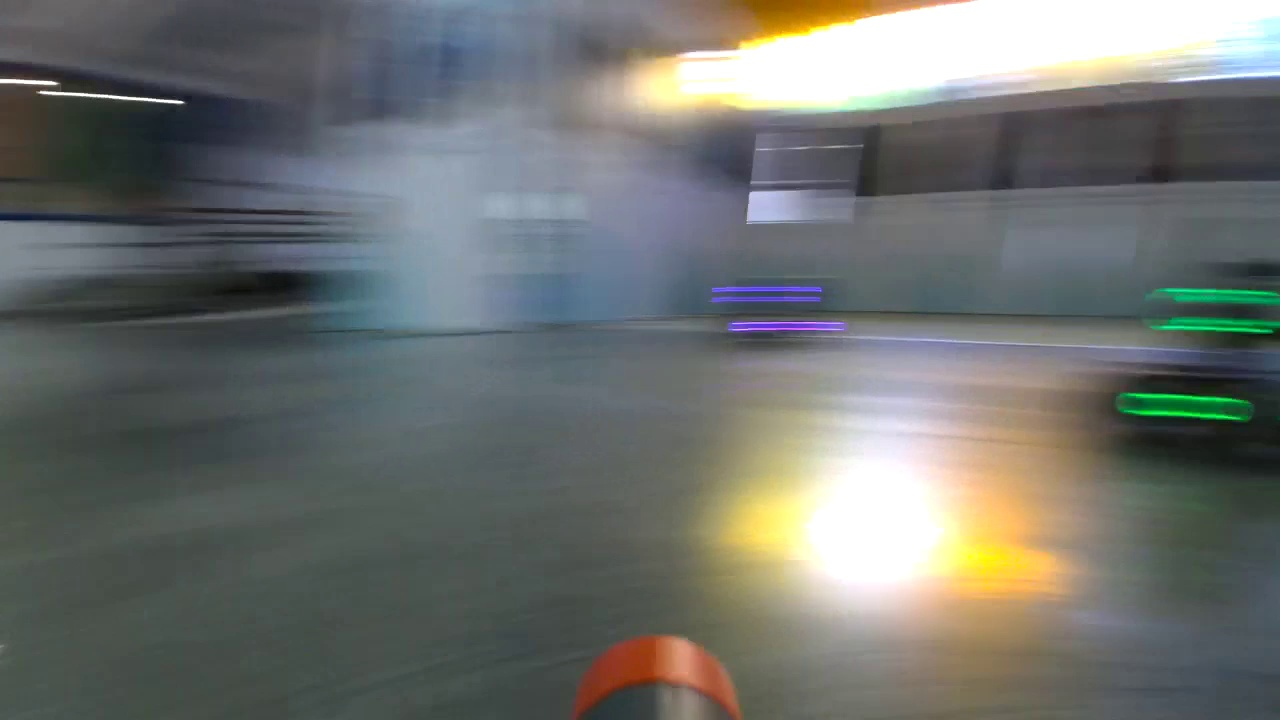robot: (1110, 271, 1280, 459), (713, 276, 847, 344)
